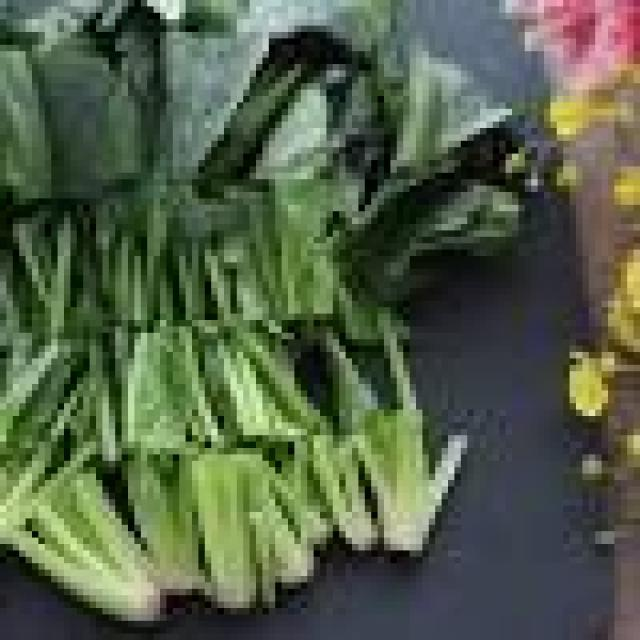Wet Waste: (0, 0, 548, 626)
